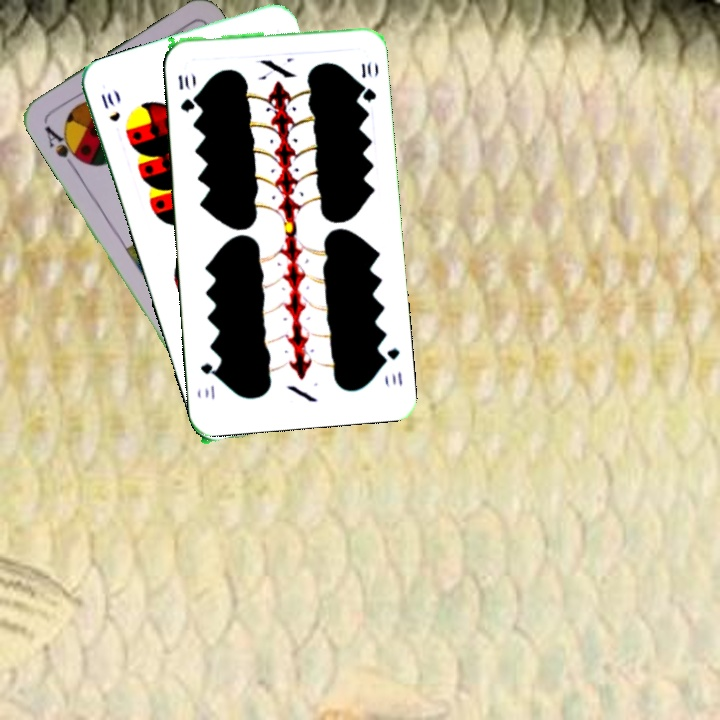G10: (377, 344, 405, 389), (174, 70, 197, 115)
S10: (97, 88, 123, 125)
SA: (40, 122, 86, 172)
